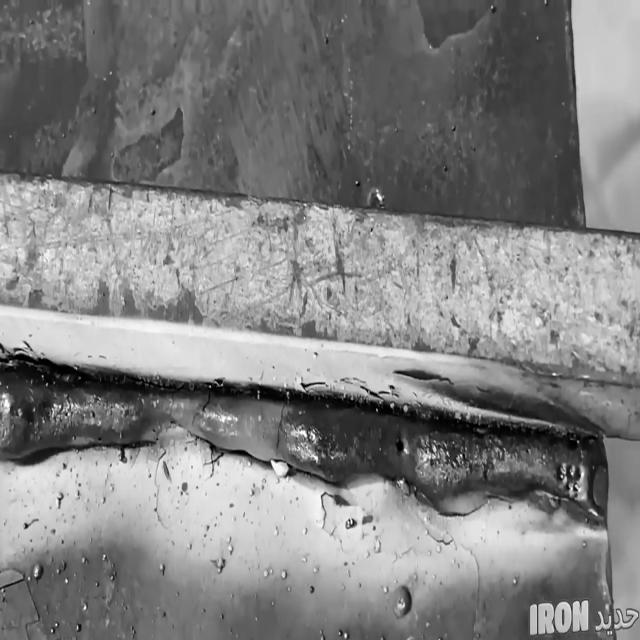Bad Welding: (1, 308, 608, 552)
Crack: (192, 429, 340, 494), (12, 431, 158, 463), (404, 479, 488, 524)
Porosity: (548, 454, 584, 502), (393, 431, 407, 453)
